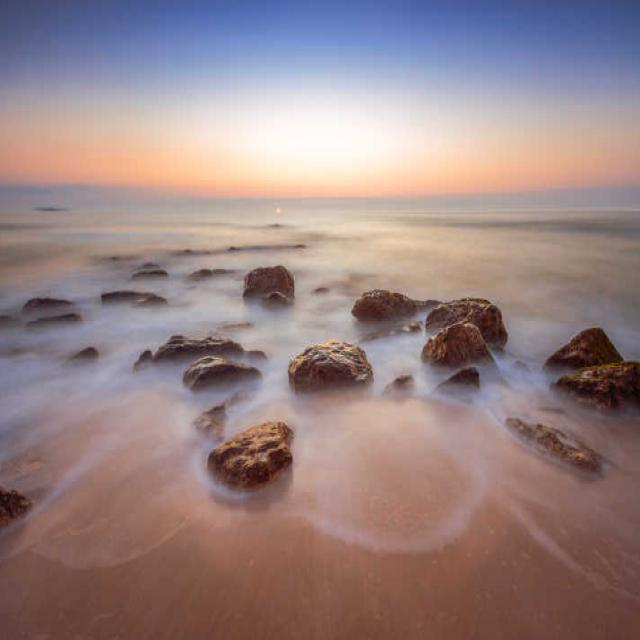reef: (408, 267, 510, 393), (546, 321, 640, 457), (294, 276, 404, 382), (208, 365, 286, 496), (240, 225, 316, 318), (592, 277, 640, 398), (120, 246, 188, 324)
